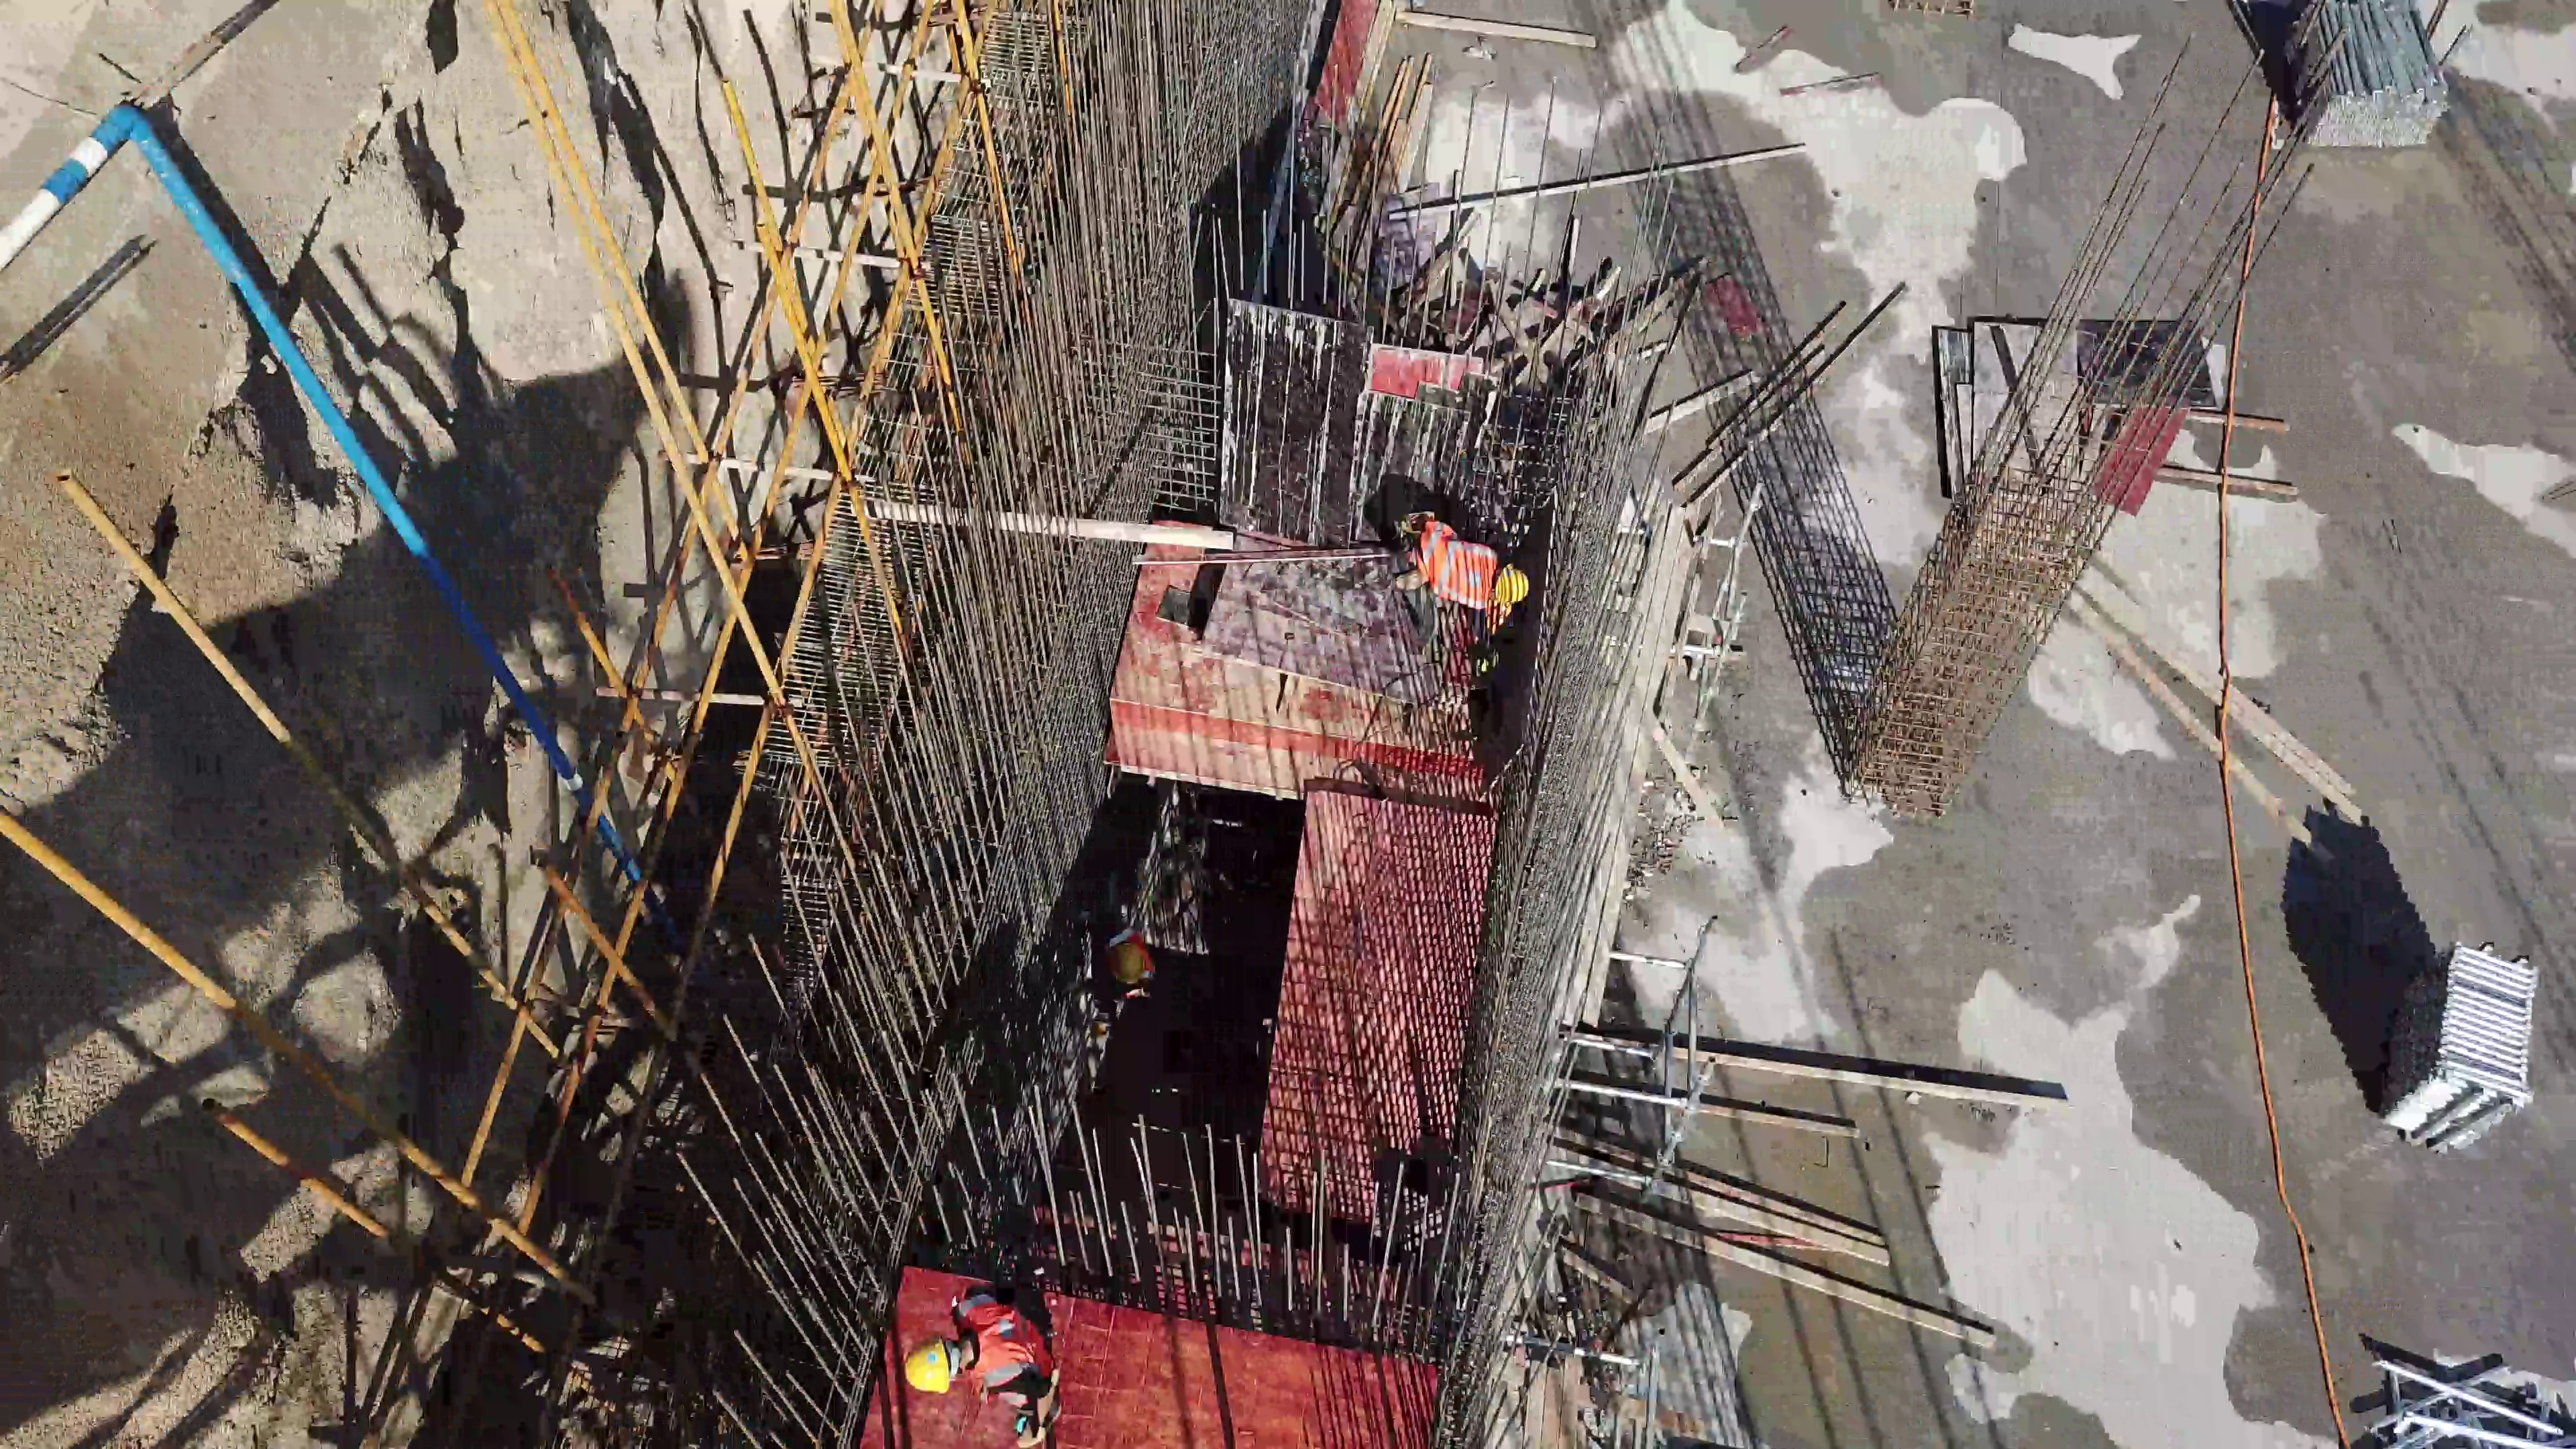helmet: (896, 1334, 953, 1391), (1490, 565, 1529, 610)
person: (900, 1293, 1065, 1449), (1383, 502, 1527, 664), (1091, 928, 1168, 1016)
scaffold: (2355, 949, 2576, 1189), (2277, 1, 2467, 174), (2357, 1350, 2576, 1440)
vest: (944, 1294, 1072, 1395), (1414, 523, 1492, 610)
